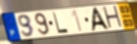1: (71, 9, 84, 33)
9: (17, 13, 36, 38), (34, 12, 51, 37)
A: (90, 7, 111, 32)
H: (102, 4, 125, 30)
L: (52, 11, 70, 34)
